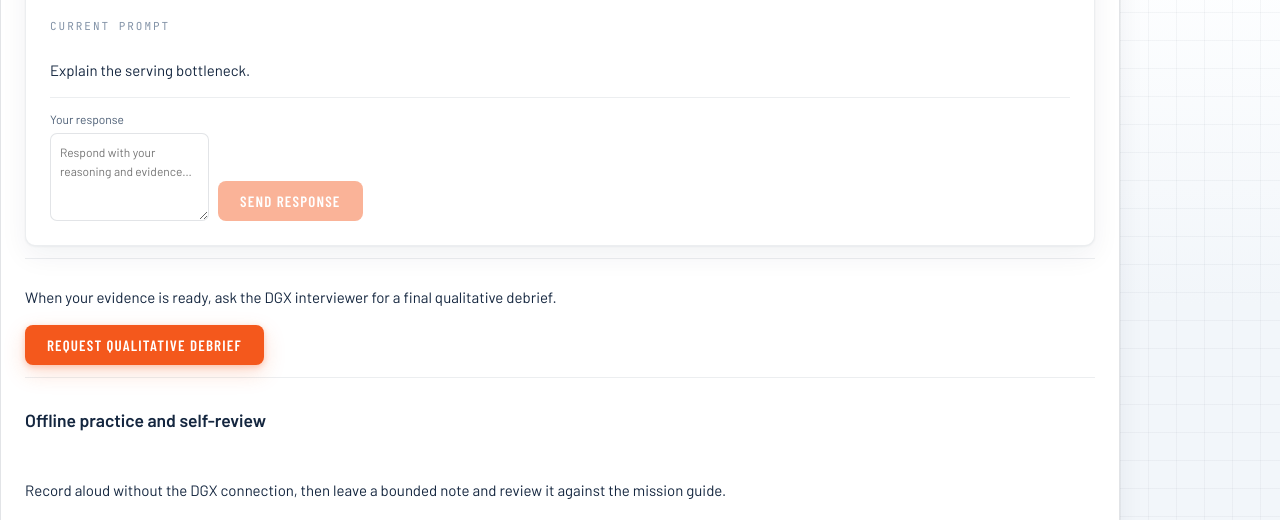
InferenceModule journey › retries the same oral debrief action and renders reload-visible reviewed feedback
(page scrolled)
Click the button "Request qualitative debrief" at (144, 345), box [25,325,264,365]
(page scrolled)
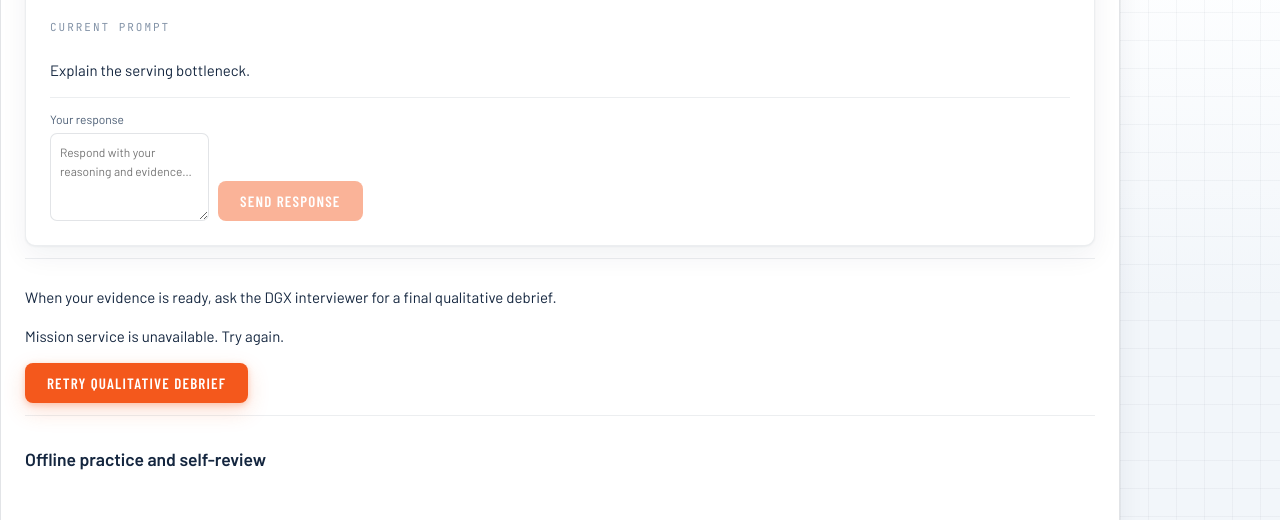
Expected: the message "Mission service is unavailable. Try again." is shown, [25,327,284,345]
Click the button "Retry qualitative debrief" at (137, 383), box [25,363,248,403]
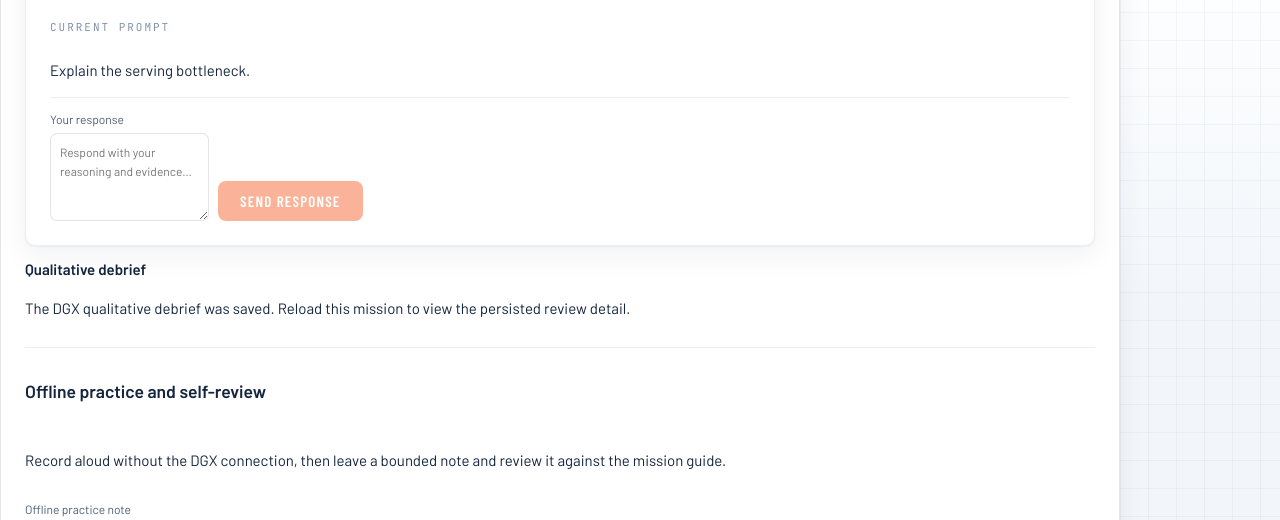
Expected: the text "DGX qualitative debrief was saved" is shown, [25,299,630,317]
